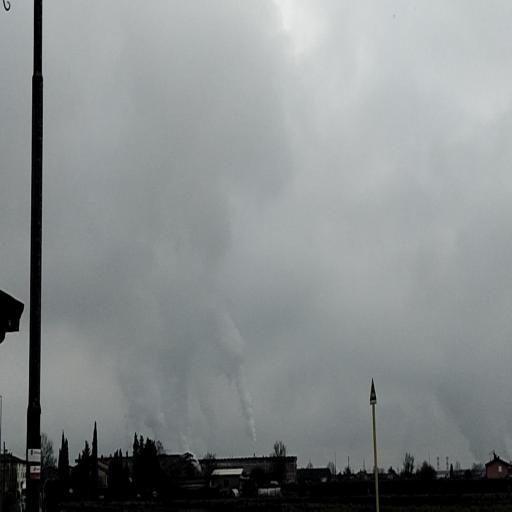leakage: (63, 173, 263, 478)
